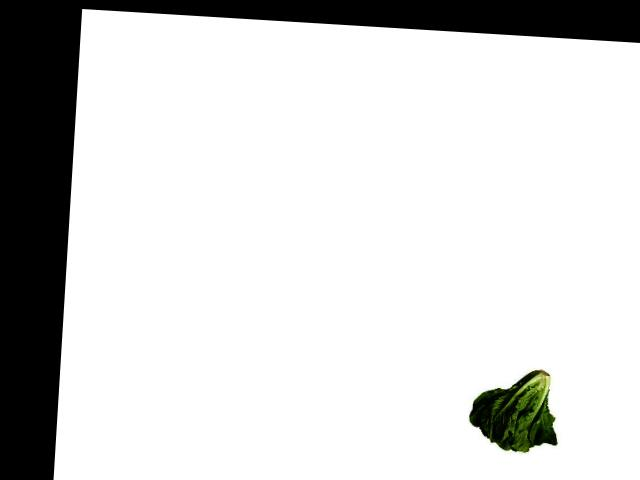lettuce: (466, 361, 563, 457)
